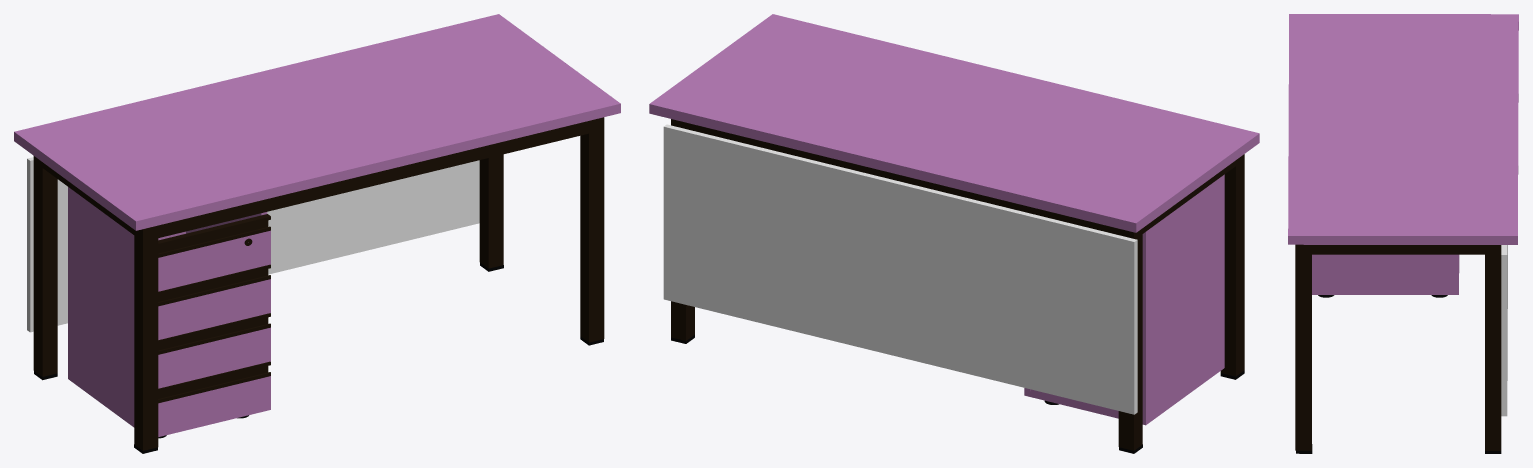
Rendered from desk.fbx.
3 views of the same model, side by side, from view 1: azimuth 30°, elevation 25°; view 2: azimuth 150°, elevation 25°; view 3: azimuth 270°, elevation 25° (orthographic). The views are drawn at different scales.
Parts seen in each view (by area): view 1: ñòîë ñ ïåð, òóìáà004, Box006; view 2: Box006, ñòîë ñ ïåð, òóìáà004; view 3: ñòîë ñ ïåð, òóìáà004, Box006.
Boxes of the visible parts, x1=… form: ñòîë ñ ïåð: x1=14, y1=14, x2=620, y2=453; òóìáà004: x1=68, y1=187, x2=270, y2=436; Box006: x1=27, y1=157, x2=479, y2=332; Box006: x1=663, y1=124, x2=1137, y2=414; ñòîë ñ ïåð: x1=649, y1=14, x2=1259, y2=453; òóìáà004: x1=1024, y1=174, x2=1224, y2=425; ñòîë ñ ïåð: x1=1288, y1=14, x2=1518, y2=453; òóìáà004: x1=1312, y1=254, x2=1459, y2=294; Box006: x1=1501, y1=245, x2=1507, y2=416.
Size of the model in its own units: 63.05 by 29.61 by 27.68.
